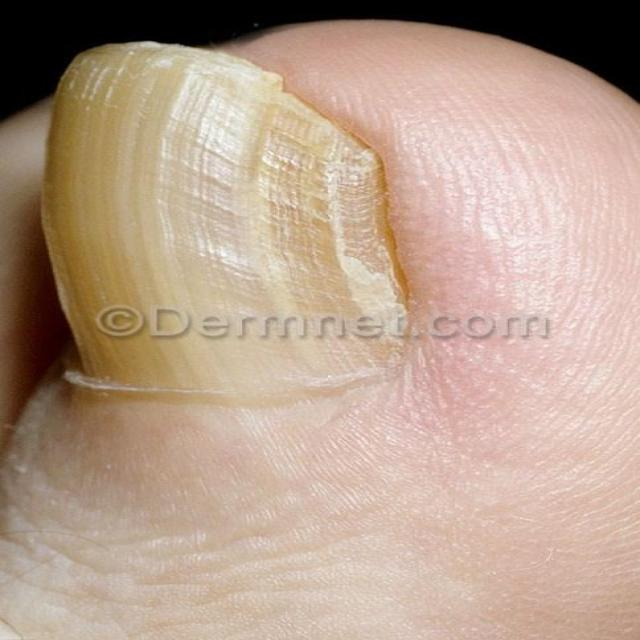Nail: (36, 43, 409, 388)
